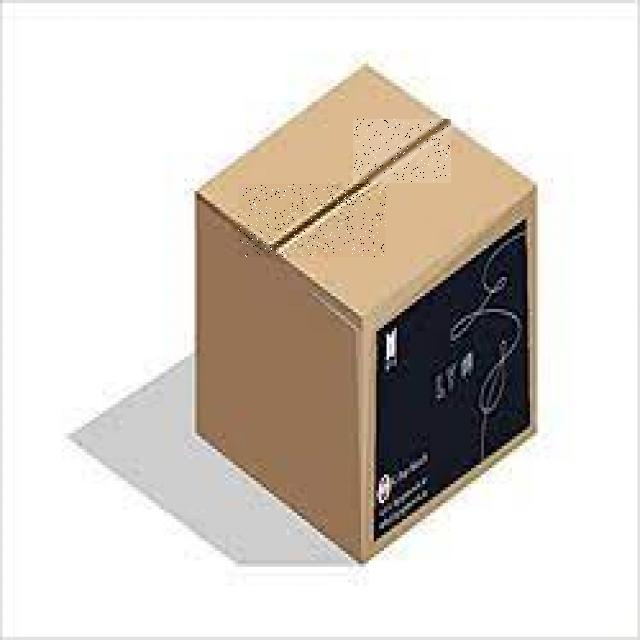tear: (238, 185, 386, 257), (355, 120, 451, 182)
